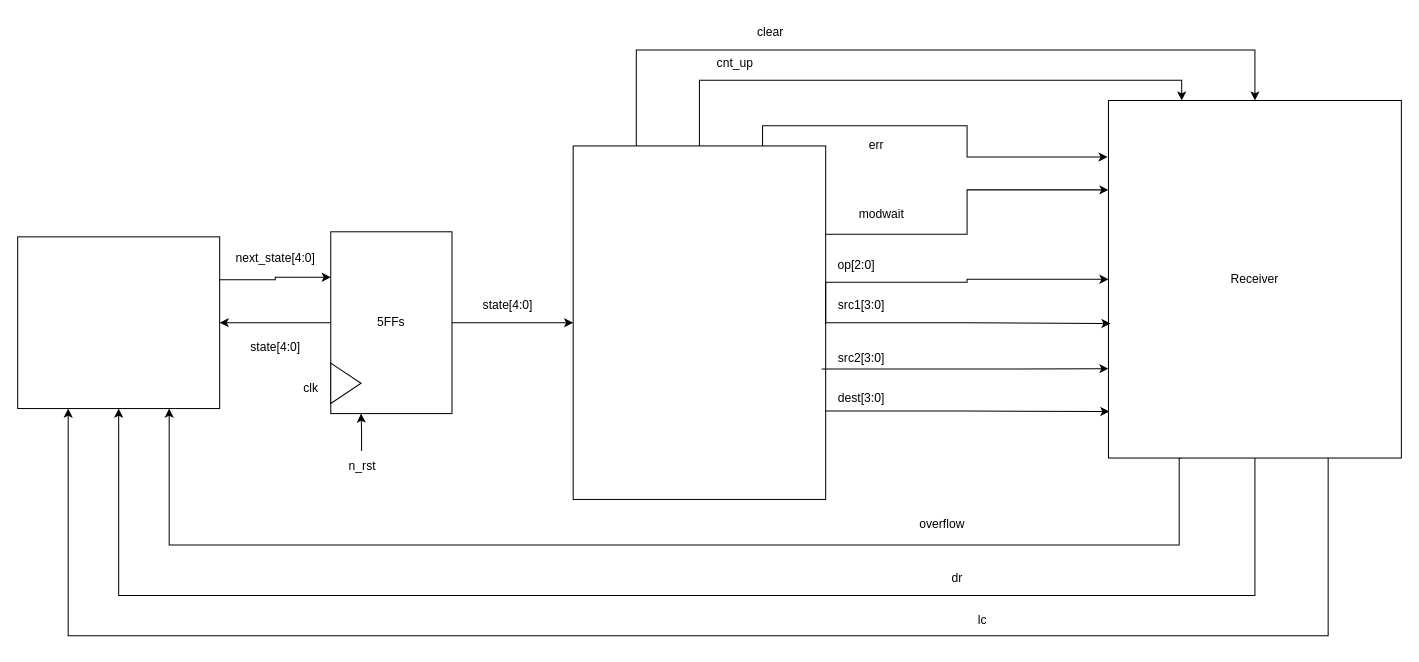
This 1419x662 diagram has some shape labels left out. The centre of each missing label's shape, as x and y in pixels:
FIR Controller Output Logic State Transition Diagram: point (699, 322)
Next_State Logic per State Transition Diagram: point (118, 322)
